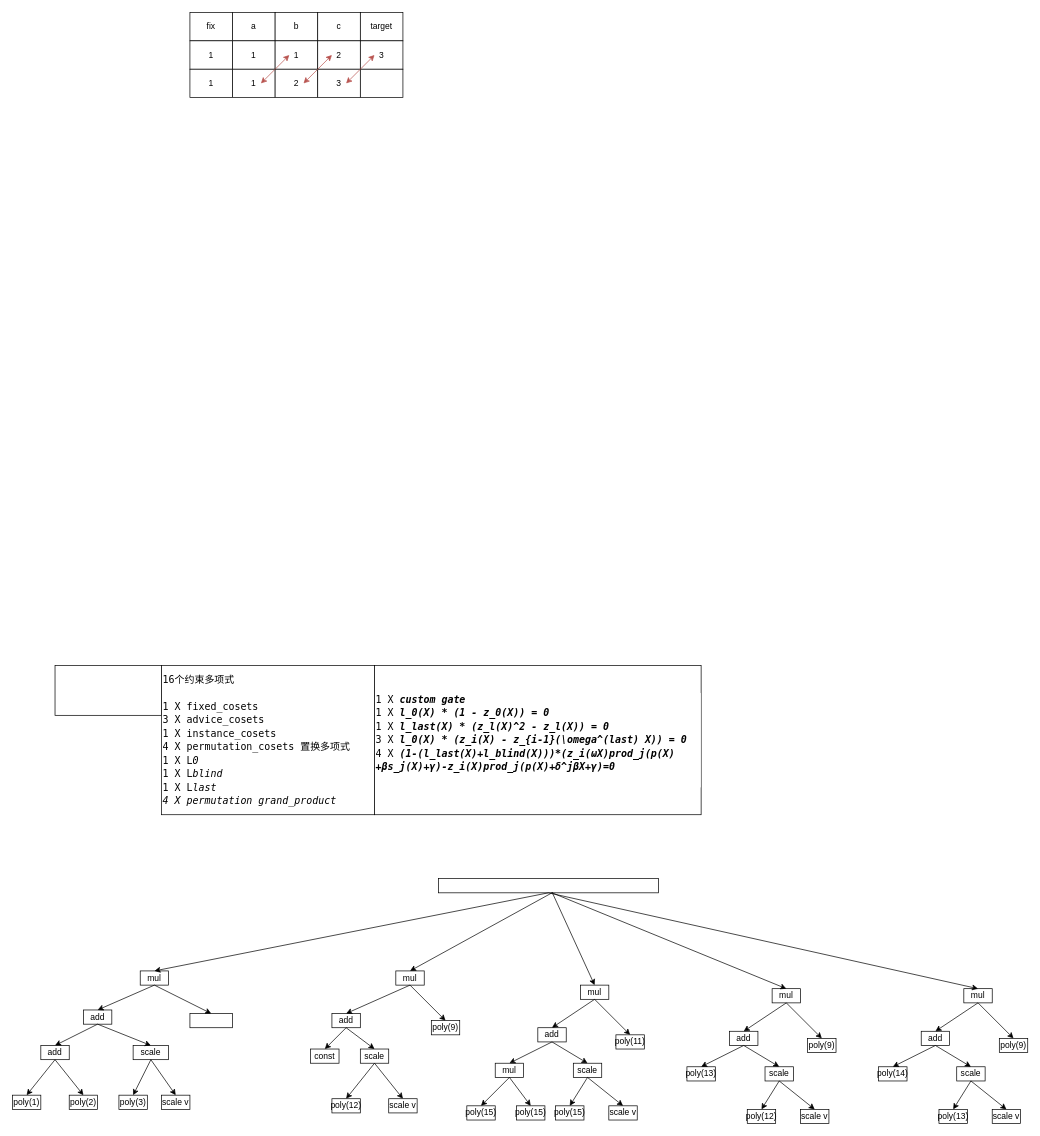
The diagram is 1040 pixels wide and 1136 high, and some of its shapes have lost their labels. The shapes that lost their labels are listed below. From the top down, each one's box as (x1, y1, x2, y2) in pixels, then its label:
(54, 665, 162, 715): scale 用法： add(a, b)=a+scale(b, -1) neg(a) = scale(a, -1)
(438, 878, 659, 893): DistributePowers（expressions, y）
(189, 1013, 233, 1028): poly(0)
